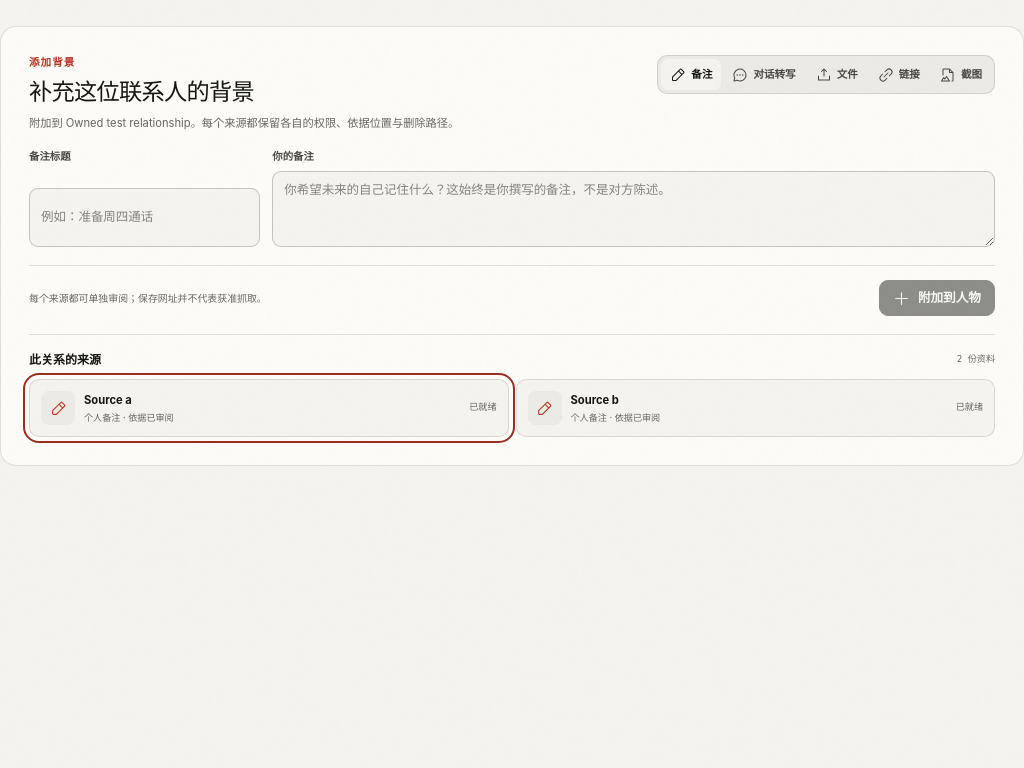
keeps the latest source when reads complete out of order
This screenshot has width=1024, height=768.
Click the button "Source a 个人备注 · 依据已审阅 已就绪": click(58, 408) 29,379 -> 508,437
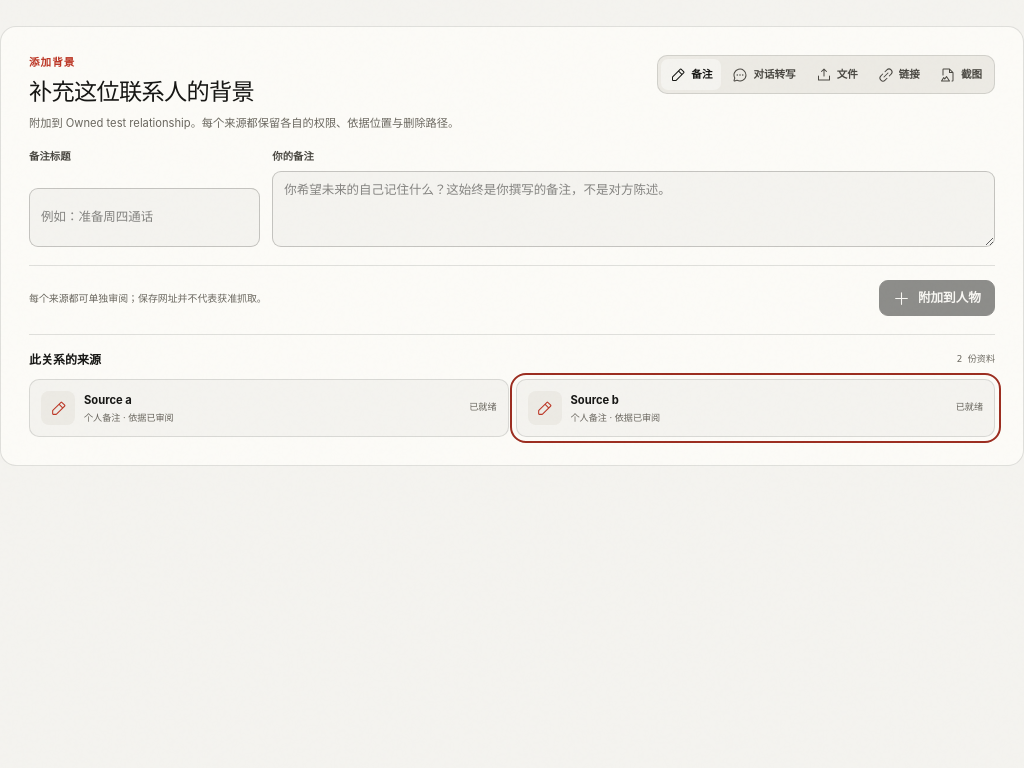
Click the button "Source b 个人备注 · 依据已审阅 已就绪": click(544, 408) 516,379 -> 995,437
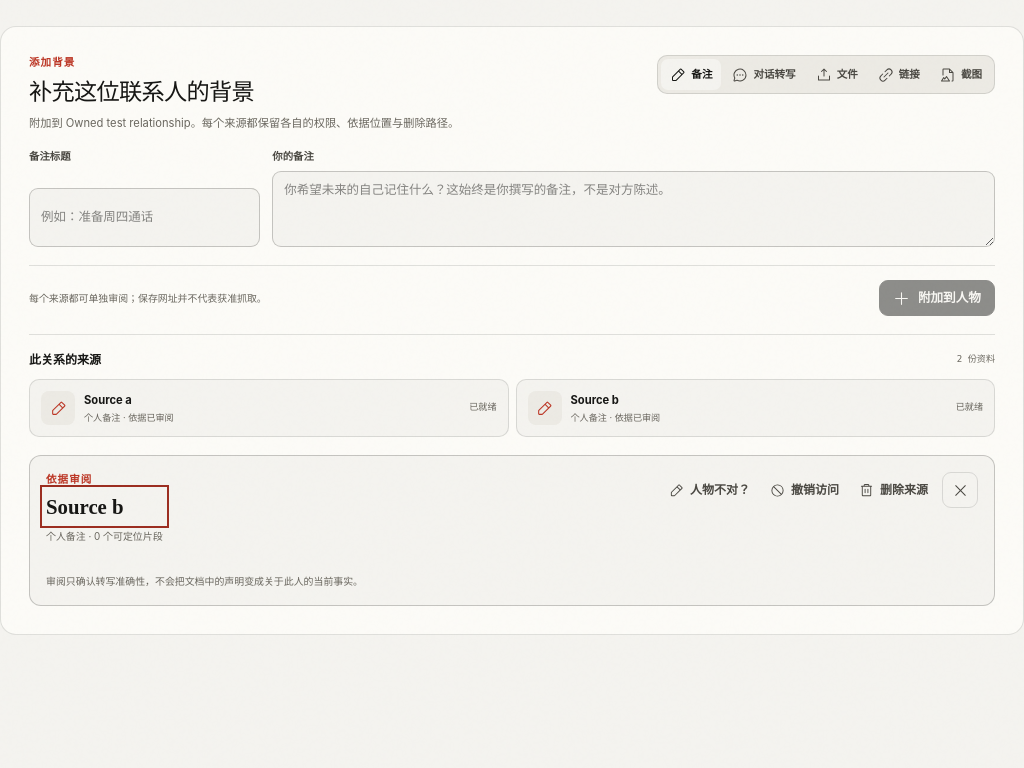
Result: the heading "Source b" is shown at 46,495 -> 124,518
